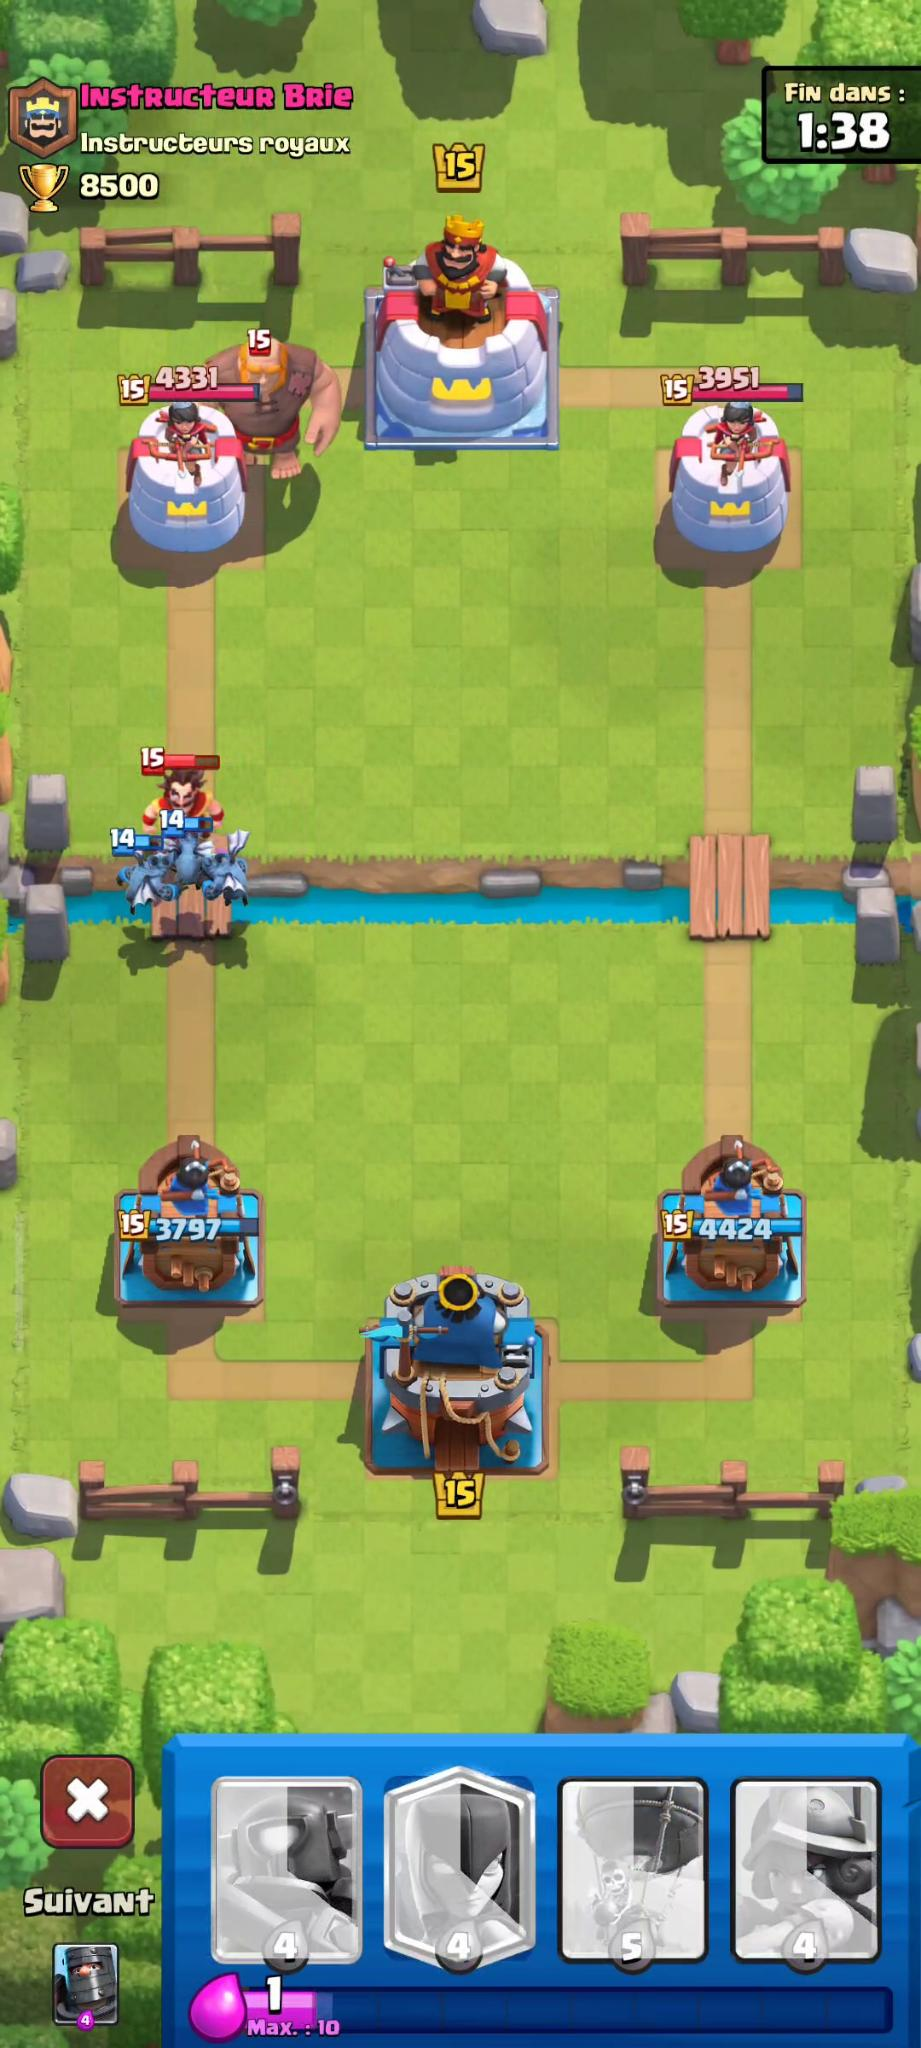gargouille: (137, 807, 222, 891), (108, 828, 174, 933), (205, 848, 270, 927)
geant: (171, 316, 353, 517)
